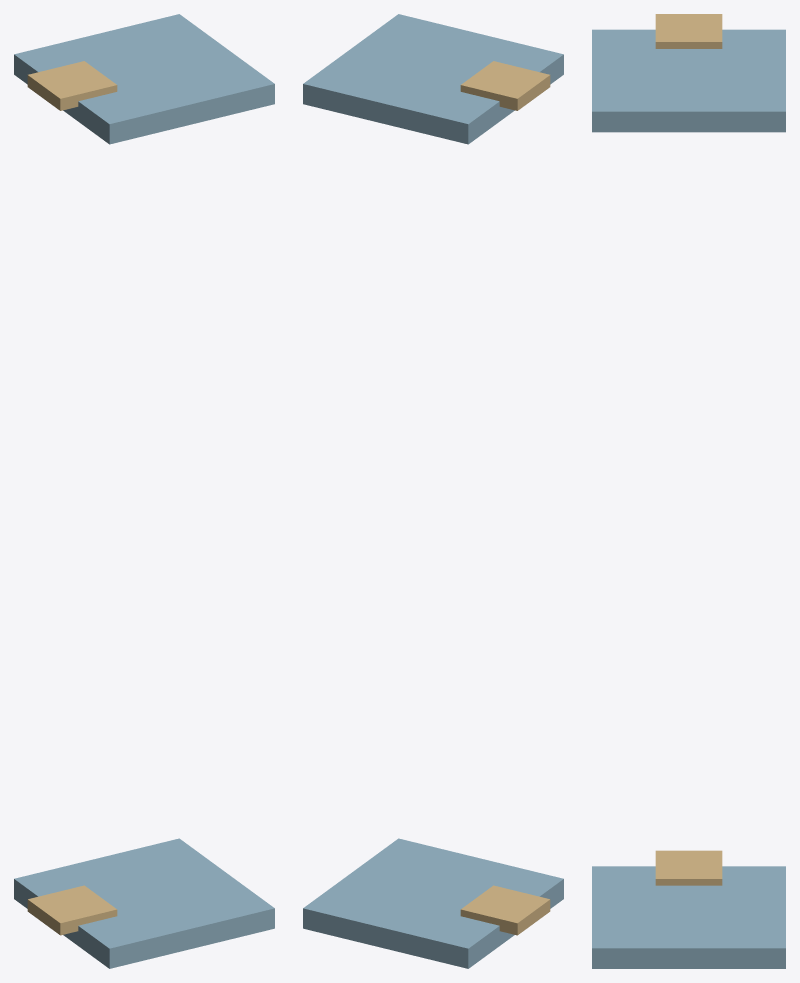
File: connection_024_landing_markers.glb
3 views of the same model, side by side, from view 1: azimuth 30°, elevation 25°; view 2: azimuth 150°, elevation 25°; view 3: azimuth 270°, elevation 25° (orthographic).
Visible parts, largest first — view 1: lower_candidate_landing_UNCERTIFIED, upper_candidate_landing_UNCERTIFIED, upper_doorway_marker, lower_doorway_marker; view 2: lower_candidate_landing_UNCERTIFIED, upper_candidate_landing_UNCERTIFIED, upper_doorway_marker, lower_doorway_marker; view 3: upper_candidate_landing_UNCERTIFIED, lower_candidate_landing_UNCERTIFIED, lower_doorway_marker, upper_doorway_marker.
Part boxes in pixels (x1,y1,x2,y2): lower_candidate_landing_UNCERTIFIED: (14,838,274,968); upper_candidate_landing_UNCERTIFIED: (14,14,274,144); upper_doorway_marker: (27,61,117,110); lower_doorway_marker: (27,885,117,935); lower_candidate_landing_UNCERTIFIED: (303,838,563,968); upper_candidate_landing_UNCERTIFIED: (303,14,563,144); upper_doorway_marker: (460,61,550,110); lower_doorway_marker: (460,885,550,935); upper_candidate_landing_UNCERTIFIED: (592,29,785,132); lower_candidate_landing_UNCERTIFIED: (592,866,785,968); lower_doorway_marker: (655,850,722,885); upper_doorway_marker: (655,14,722,48).
Bounding box in the file's own units: 0.7088 × 3.15 × 0.64.
